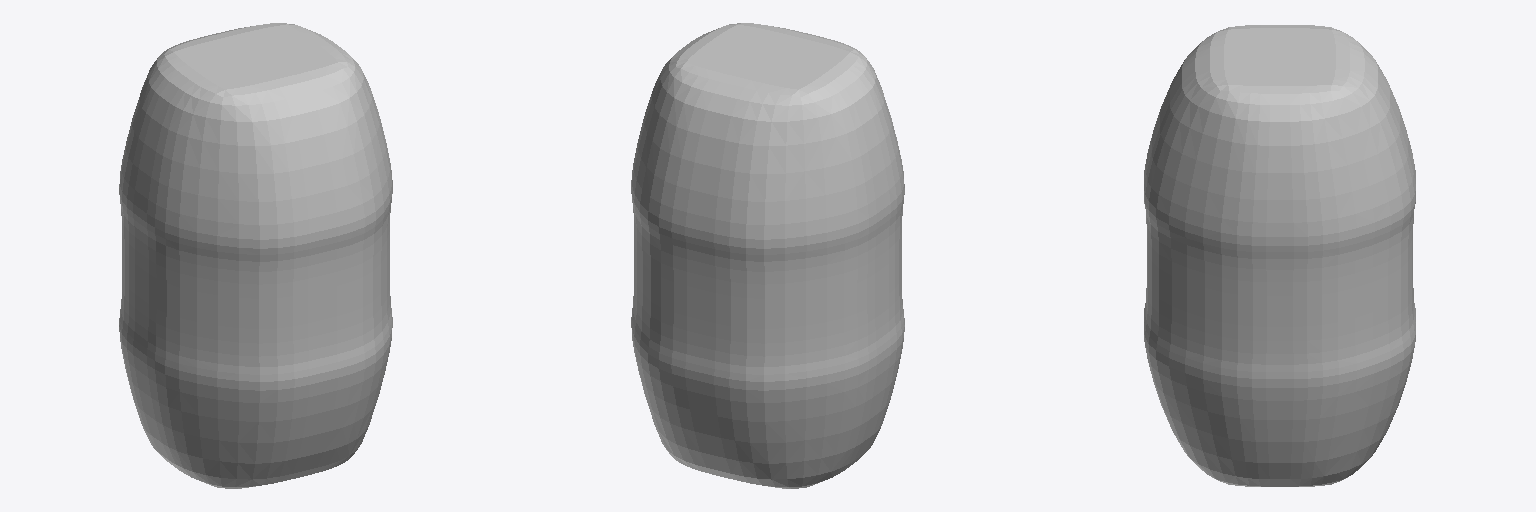
Rendered from plastic blue barrel.obj.
3 renders of one model, left to right at view 1: azimuth 30°, elevation 25°; view 2: azimuth 150°, elevation 25°; view 3: azimuth 270°, elevation 25°, orthographic.
Visible parts, largest first — view 1: Cube_Cube.001; view 2: Cube_Cube.001; view 3: Cube_Cube.001.
Part boxes in pixels (left/top/right/bottom): Cube_Cube.001: left=119, top=23, right=392, bottom=488; Cube_Cube.001: left=631, top=23, right=904, bottom=488; Cube_Cube.001: left=1144, top=25, right=1415, bottom=486.
Size of the model in its own units: 2.44 by 4 by 2.49.